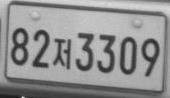0: (119, 35, 137, 75)
2: (31, 29, 49, 68)
3: (75, 32, 95, 71), (96, 34, 116, 73)
8: (9, 26, 29, 66)
9: (140, 37, 161, 76)
저: (51, 38, 72, 70)
